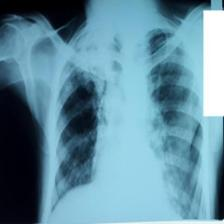tuberculosis: (45, 17, 204, 222)
